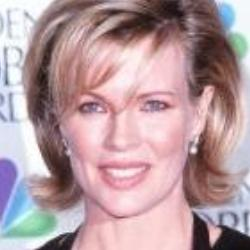face: (16, 4, 245, 226)
